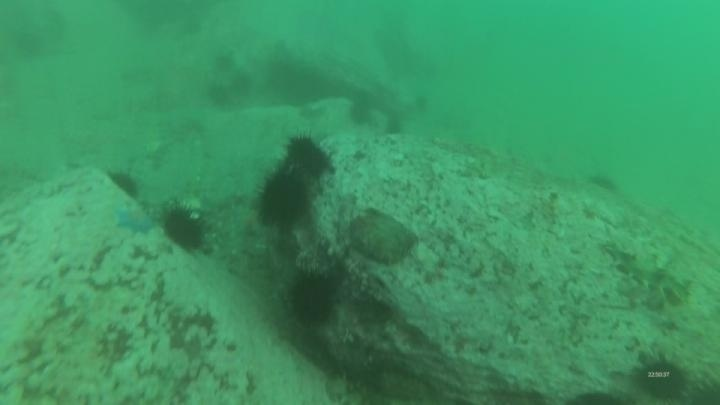echinus: (282, 267, 341, 330), (254, 169, 312, 229), (631, 354, 691, 402), (160, 204, 208, 253), (284, 132, 334, 178), (105, 167, 143, 202), (346, 96, 376, 128), (205, 81, 235, 110), (587, 171, 620, 194), (228, 71, 254, 100), (211, 51, 237, 74), (382, 113, 406, 137)
holothurian: (602, 238, 692, 301), (430, 131, 503, 161)
starfish: (112, 204, 157, 237)
